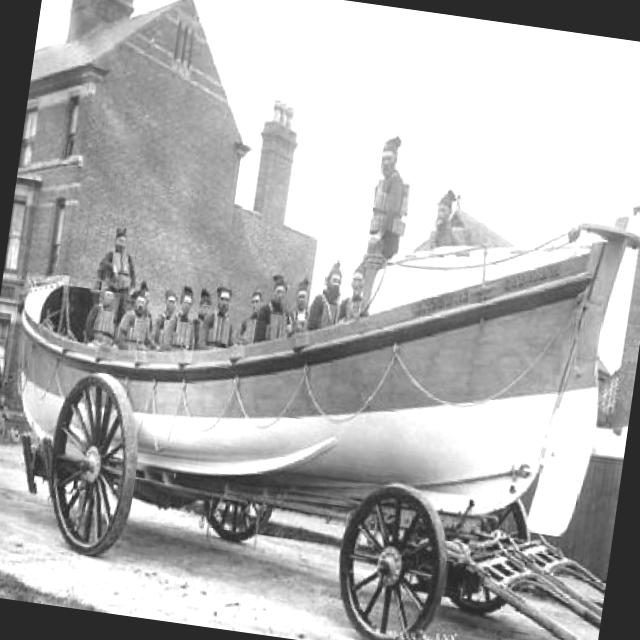Person: (366, 130, 422, 256), (94, 222, 164, 318), (255, 268, 300, 346), (199, 276, 243, 354), (308, 256, 348, 334), (426, 184, 470, 252), (84, 280, 129, 346), (162, 282, 204, 350), (118, 286, 158, 348), (151, 284, 181, 350), (338, 261, 368, 323), (290, 272, 318, 334), (237, 287, 266, 345), (192, 284, 215, 348)
